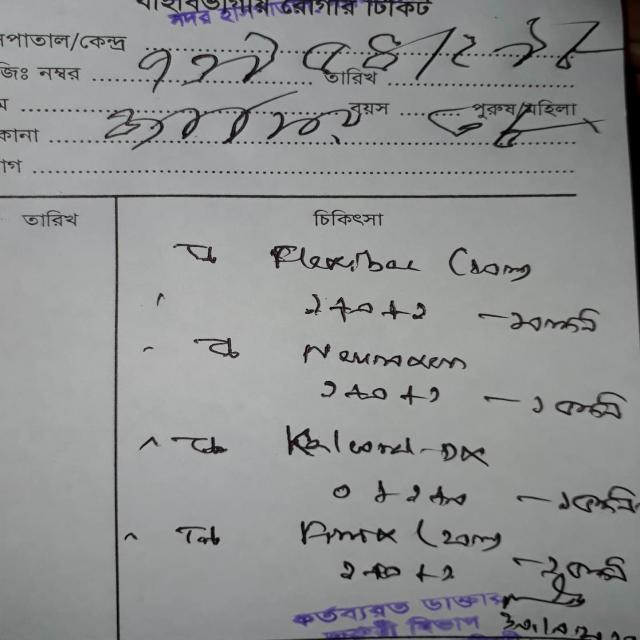Finix: (290, 514, 416, 552)
Flexibac: (263, 234, 428, 284)
Kalcoral DX: (274, 415, 495, 472)
Neuroxen: (297, 339, 472, 378)
